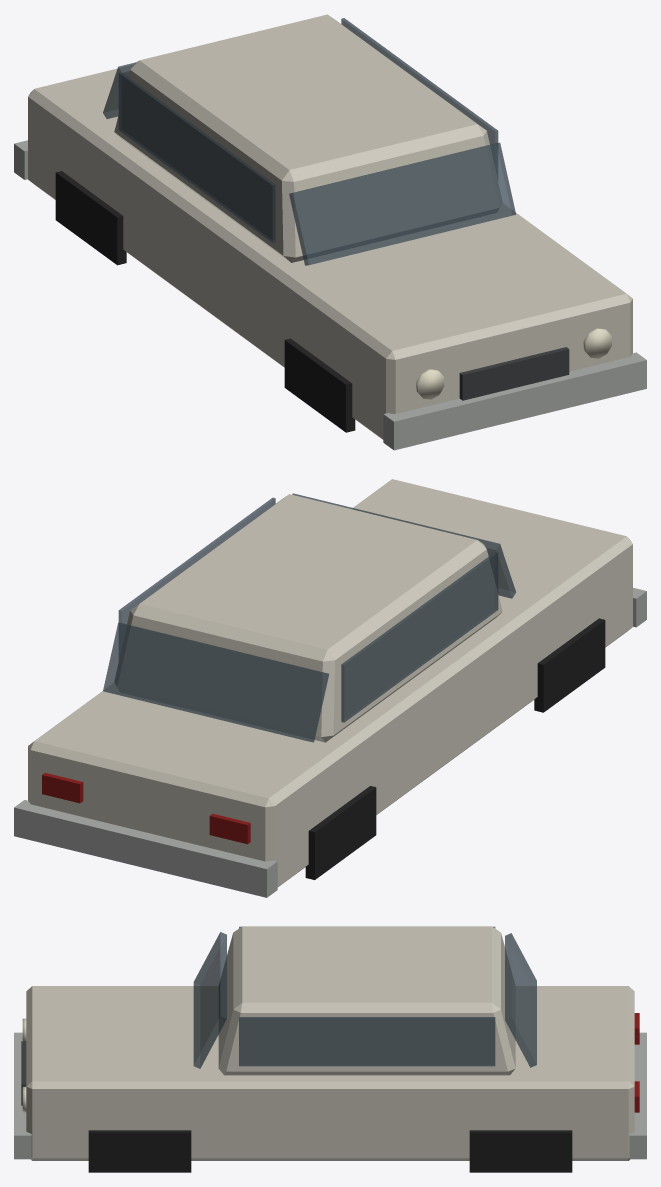
Rendered from sedan_body_white.glb.
The picture shows the model from 3 angles, top to bottom: view 1: azimuth 30°, elevation 25°; view 2: azimuth 150°, elevation 25°; view 3: azimuth 270°, elevation 25°; orthographic projection. The views are drawn at different scales.
Parts seen in each view (by area): view 1: Body; view 2: Body; view 3: Body.
Part boxes in pixels (<box>): Body: <box>14,14,646,450</box>; Body: <box>14,479,646,897</box>; Body: <box>14,926,646,1172</box>.
Bounding box in the file's own units: 1.7 × 1.17 × 4.32.
